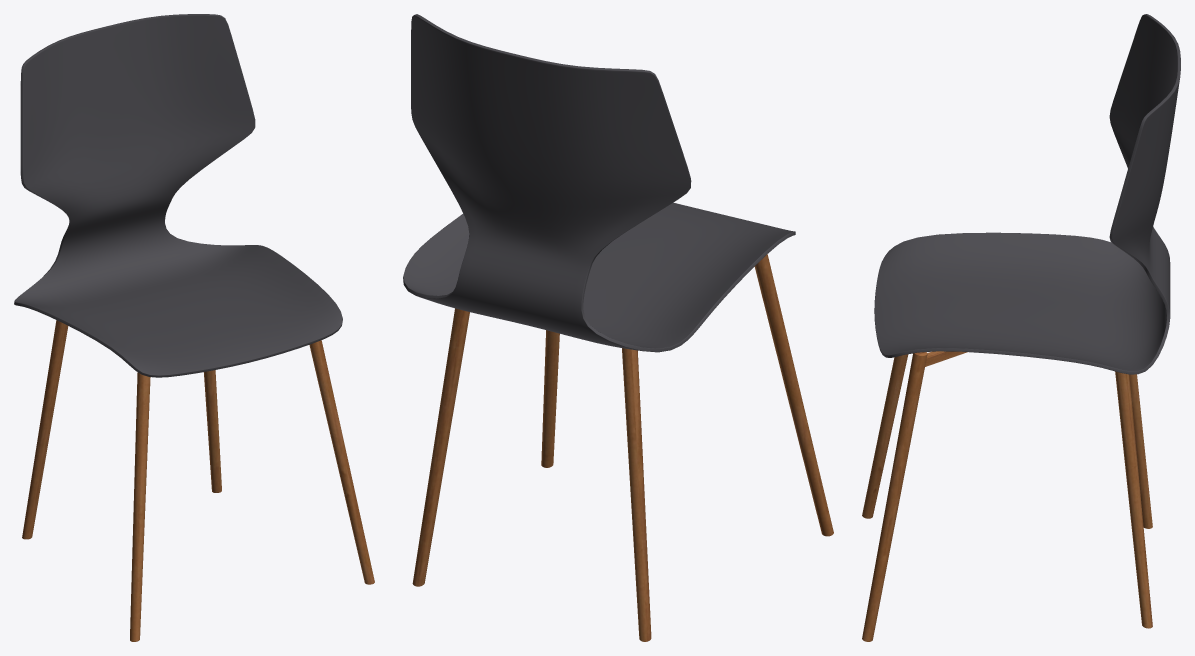
File: chair_63_01.001.fbx
The picture shows the model from 3 angles, left to right: view 1: azimuth 30°, elevation 25°; view 2: azimuth 150°, elevation 25°; view 3: azimuth 270°, elevation 25°; orthographic projection. The views are drawn at different scales.
Visible parts, largest first — view 1: chair_63_01.001; view 2: chair_63_01.001; view 3: chair_63_01.001.
Part boxes in pixels (x1,y1,x2,y2): chair_63_01.001: (14,14,374,641); chair_63_01.001: (403,14,833,641); chair_63_01.001: (862,14,1180,641).
Bounding box in the file's own units: 45.27 × 85.1 × 47.74.
Materials: 1 (1 with a texture image).
